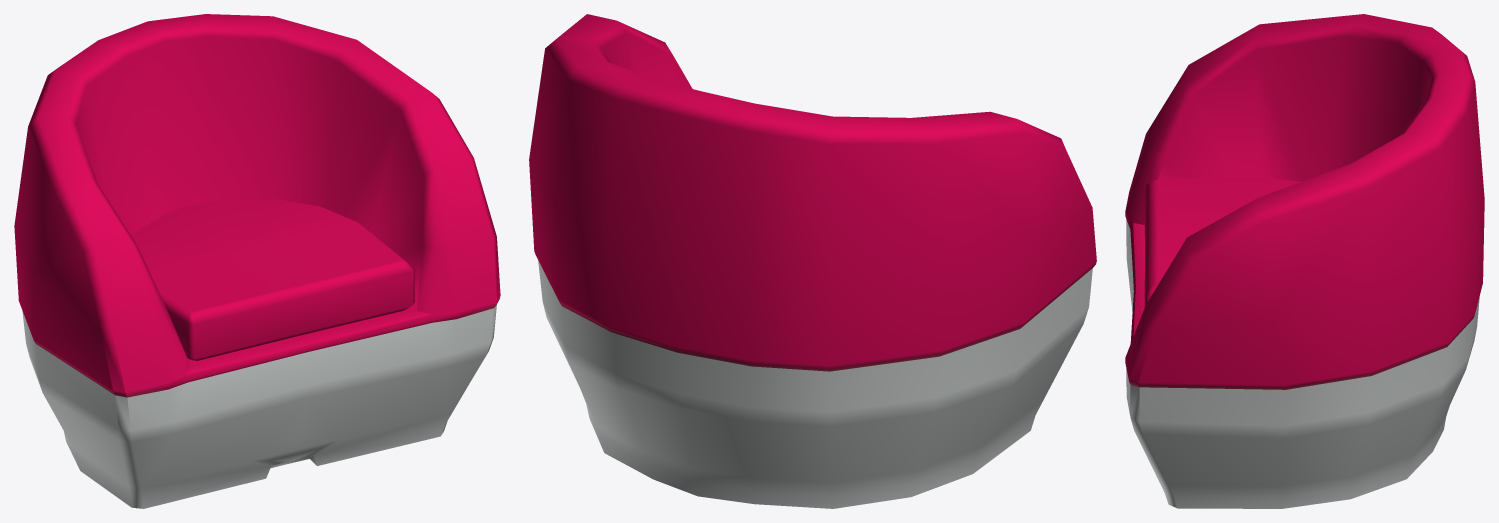
3 renders of one model, left to right at view 1: azimuth 30°, elevation 25°; view 2: azimuth 150°, elevation 25°; view 3: azimuth 270°, elevation 25°, orthographic. The views are drawn at different scales.
Parts seen in each view (by area): view 1: G:\FFXIV-MapTools\exports\x6t1\bg\ex5\01_xkt_x6\twn\x6t1\bgp (×3); view 2: G:\FFXIV-MapTools\exports\x6t1\bg\ex5\01_xkt_x6\twn\x6t1\bgp (×3); view 3: G:\FFXIV-MapTools\exports\x6t1\bg\ex5\01_xkt_x6\twn\x6t1\bgp (×3).
Part boxes in pixels (x1,y1,x2,y2): G:\FFXIV-MapTools\exports\x6t1\bg\ex5\01_xkt_x6\twn\x6t1\bgp (×3): (14,14,500,508); G:\FFXIV-MapTools\exports\x6t1\bg\ex5\01_xkt_x6\twn\x6t1\bgp (×3): (529,14,1096,508); G:\FFXIV-MapTools\exports\x6t1\bg\ex5\01_xkt_x6\twn\x6t1\bgp (×3): (1125,14,1484,508).
Size of the model in its own units: 1.14 by 0.9072 by 0.8279.
